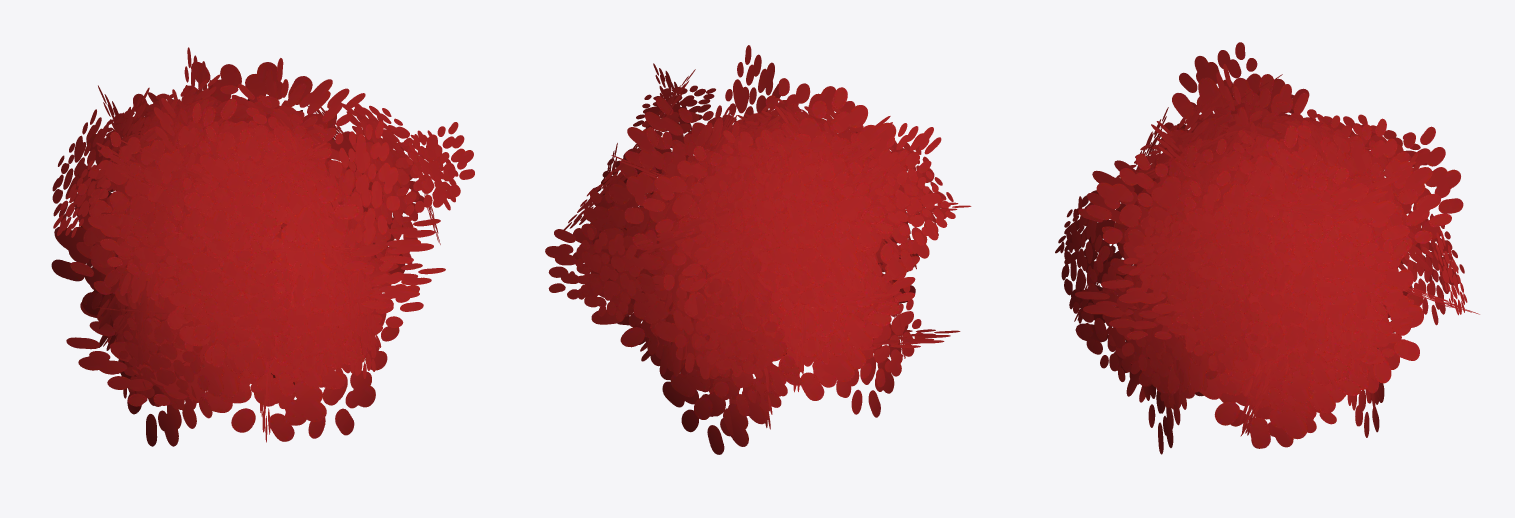
Rendered from bush-common-lo.glb.
3 renders of one model, left to right at view 1: azimuth 30°, elevation 25°; view 2: azimuth 150°, elevation 25°; view 3: azimuth 270°, elevation 25°, orthographic. The views are drawn at different scales.
Visible parts, largest first — view 1: Bush_Common; view 2: Bush_Common; view 3: Bush_Common.
Part boxes in pixels (x1,y1,x2,y2): Bush_Common: [51, 47, 474, 446]; Bush_Common: [545, 45, 971, 454]; Bush_Common: [1055, 42, 1479, 454].
Size of the model in its own units: 1.89 by 1.92 by 1.9.
1 material, 1 textured.
